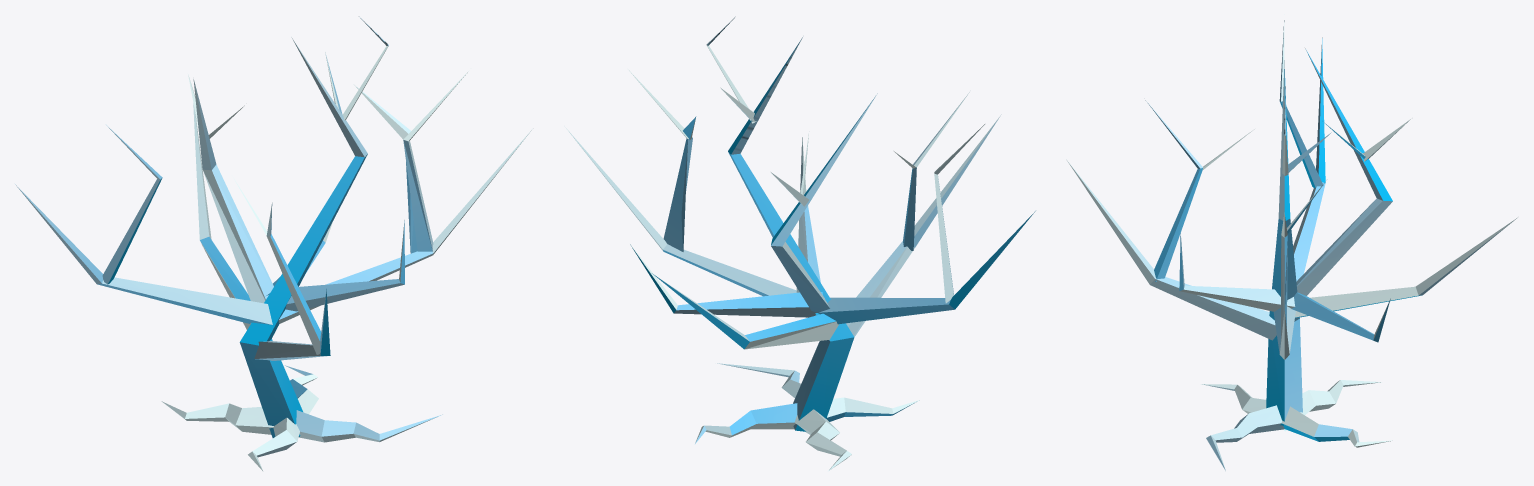
The model's file is baum_eis.fbx.
3 renders of one model, left to right at view 1: azimuth 30°, elevation 25°; view 2: azimuth 150°, elevation 25°; view 3: azimuth 270°, elevation 25°, orthographic. The views are drawn at different scales.
Visible parts, largest first — view 1: baumkahl; view 2: baumkahl; view 3: baumkahl.
Part boxes in pixels (x1,y1,x2,y2): baumkahl: [15, 16, 532, 471]; baumkahl: [564, 16, 1035, 471]; baumkahl: [1066, 14, 1517, 470].
Bounding box in the file's own units: 1562 × 1213 × 1326.
Materials: 1 (1 with a texture image).
